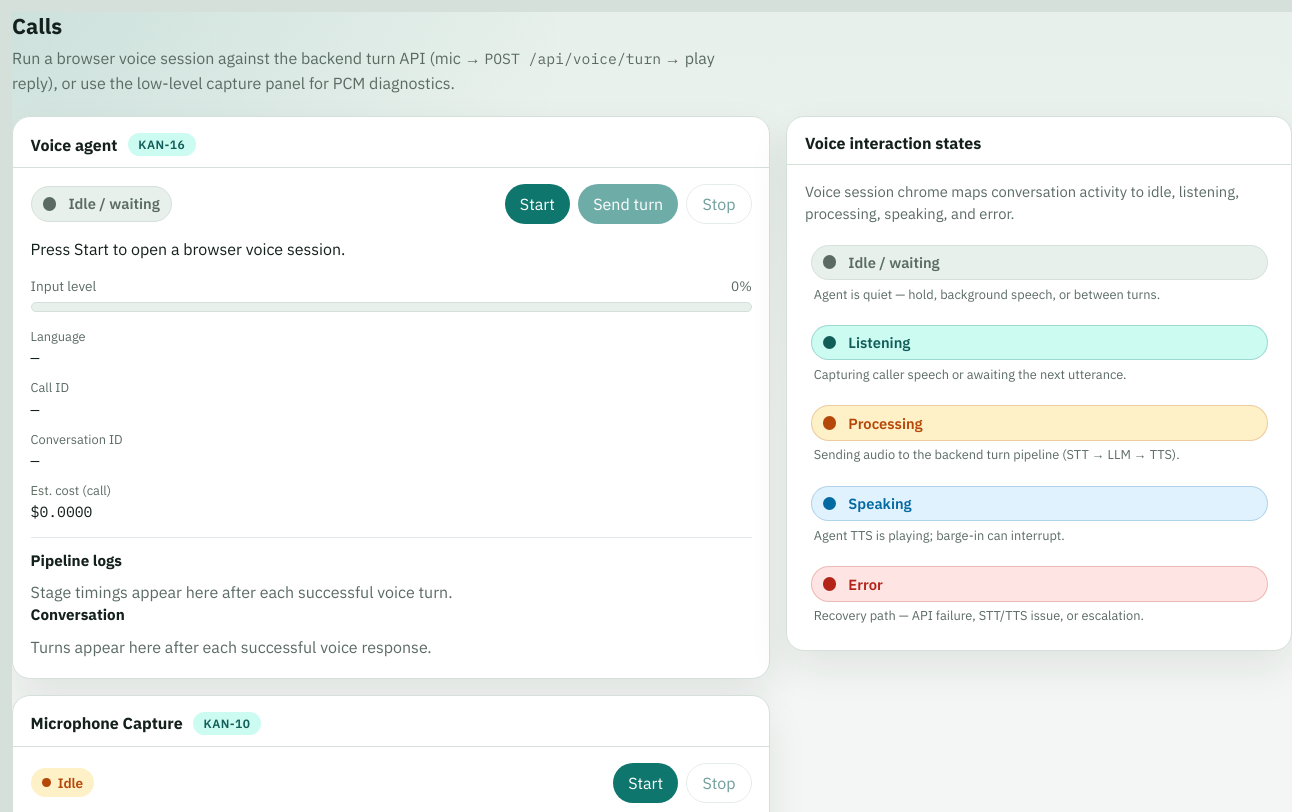
Test: VoiceAgentPanel (KAN-16) › TC-001 Idle to listening after Start with mic granted
The image size is (1292, 812).
Expected: the element with test id "voice-agent" is shown, [31,184,752,659]
Expected: the button with test id "voice-send-turn" is disabled, [578,184,678,224]
Click the button with test id "voice-start": click(537, 204) [505,184,570,224]
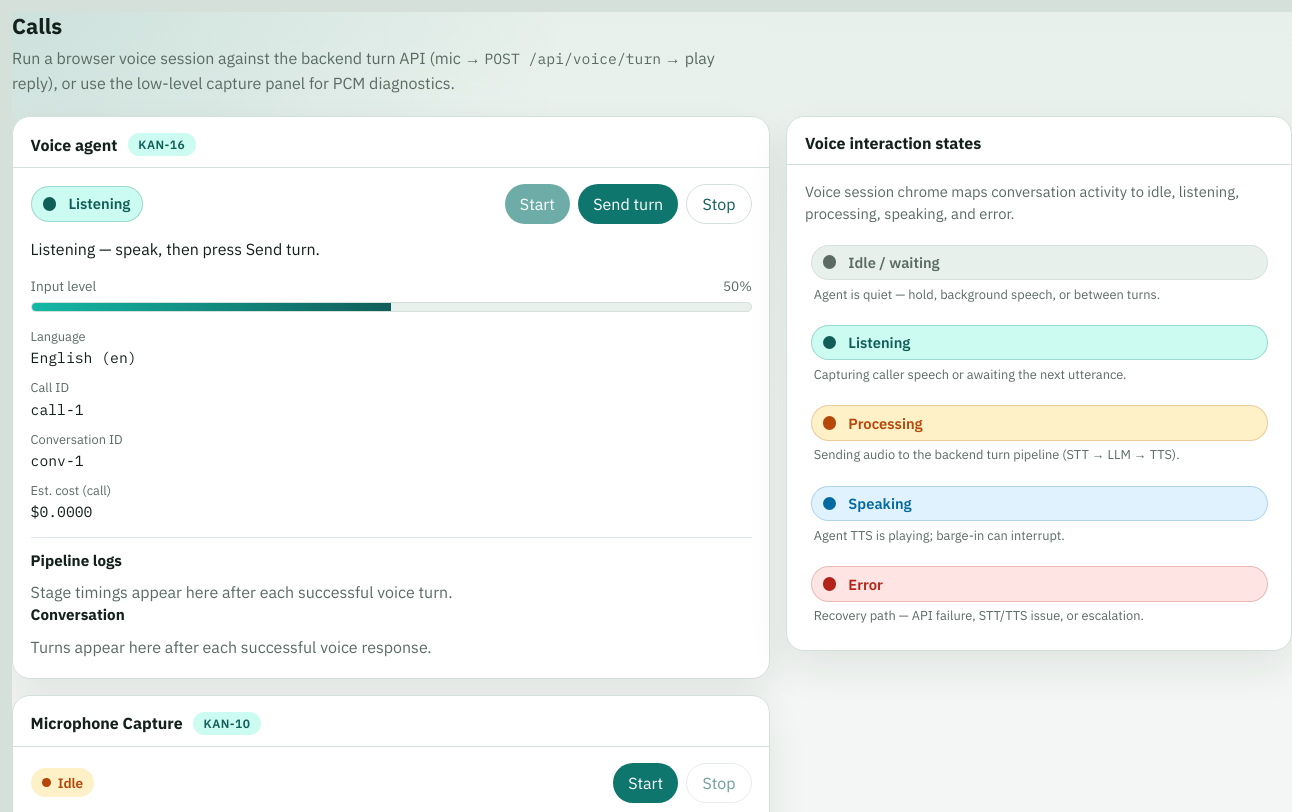
Now the text with test id "voice-call-id" reads "call-1", box [31,400,84,418]
Now the text with test id "voice-language" reads "English (en)", box [31,348,137,367]
Now the button with test id "voice-send-turn" is enabled, box [578,184,678,224]
